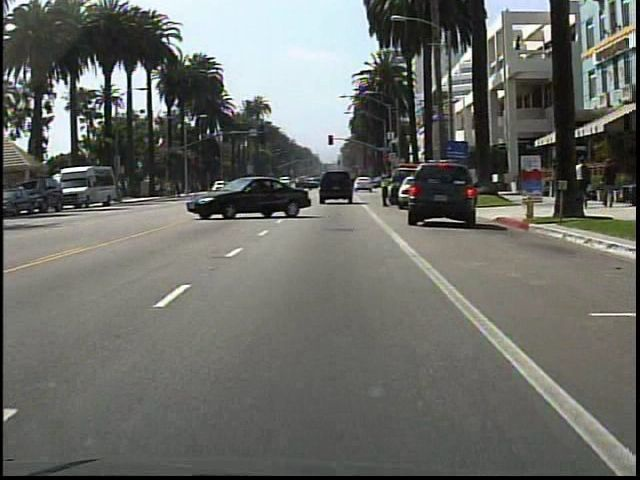person: (598, 155, 620, 215), (575, 157, 592, 203), (562, 162, 577, 213), (379, 167, 396, 212)
